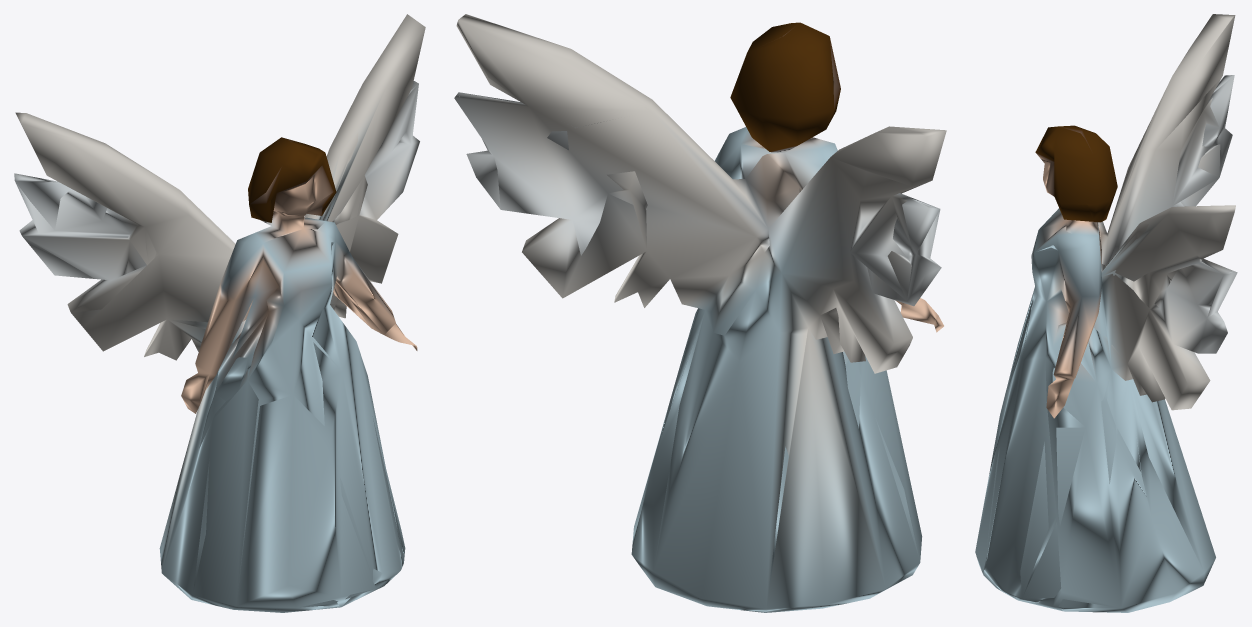
File: gen3d-angel-lod1.glb
3 views of the same model, side by side, from view 1: azimuth 30°, elevation 25°; view 2: azimuth 150°, elevation 25°; view 3: azimuth 270°, elevation 25° (orthographic). The views are drawn at different scales.
Visible parts, largest first — view 1: part_0; view 2: part_0; view 3: part_0.
Boxes of the visible parts, x1=… form: part_0: x1=14, y1=14, x2=425, y2=612; part_0: x1=454, y1=14, x2=946, y2=612; part_0: x1=975, y1=14, x2=1237, y2=612.
Bounding box in the file's own units: 0.9332 × 0.9991 × 0.5217.
